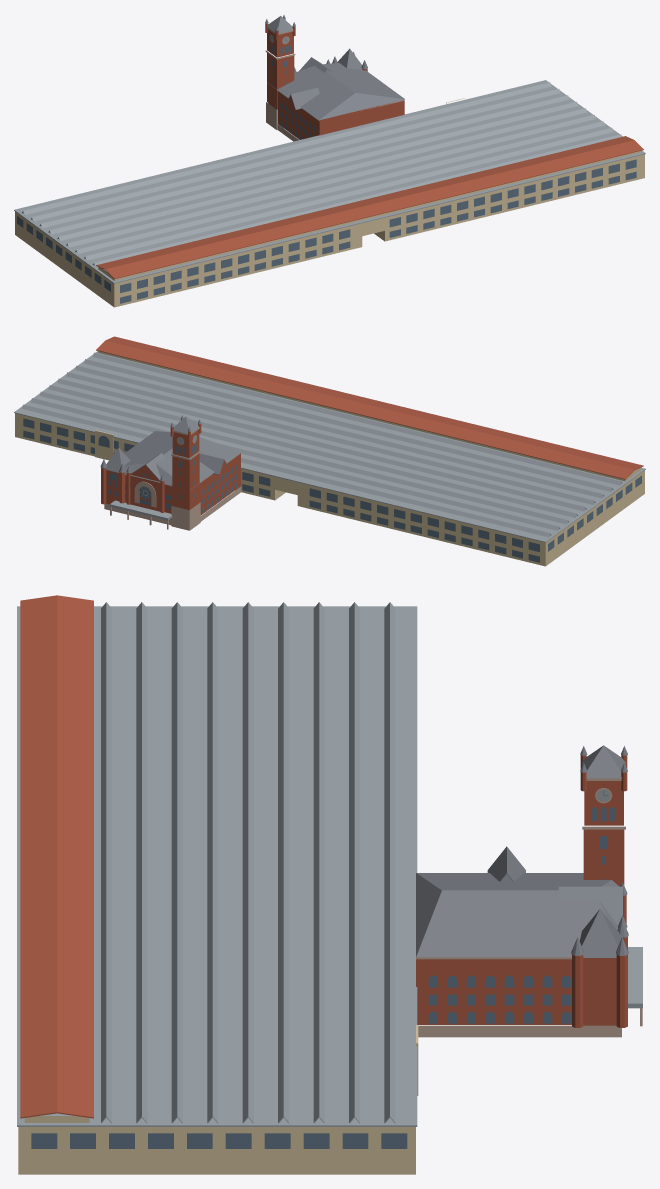
Rendered from indy-union-station.glb.
3 views of the same model, one above another, from view 1: azimuth 30°, elevation 25°; view 2: azimuth 150°, elevation 25°; view 3: azimuth 270°, elevation 25° (orthographic). The views are drawn at different scales.
Parts seen in each view (by area): view 1: Indianapolis Union Station; view 2: Indianapolis Union Station; view 3: Indianapolis Union Station.
Part boxes in pixels (x1,y1,x2,y2): Indianapolis Union Station: [14, 15, 645, 307]; Indianapolis Union Station: [14, 336, 645, 566]; Indianapolis Union Station: [17, 595, 642, 1174].
Bounding box in the file's own units: 284 × 55.3 × 145.
